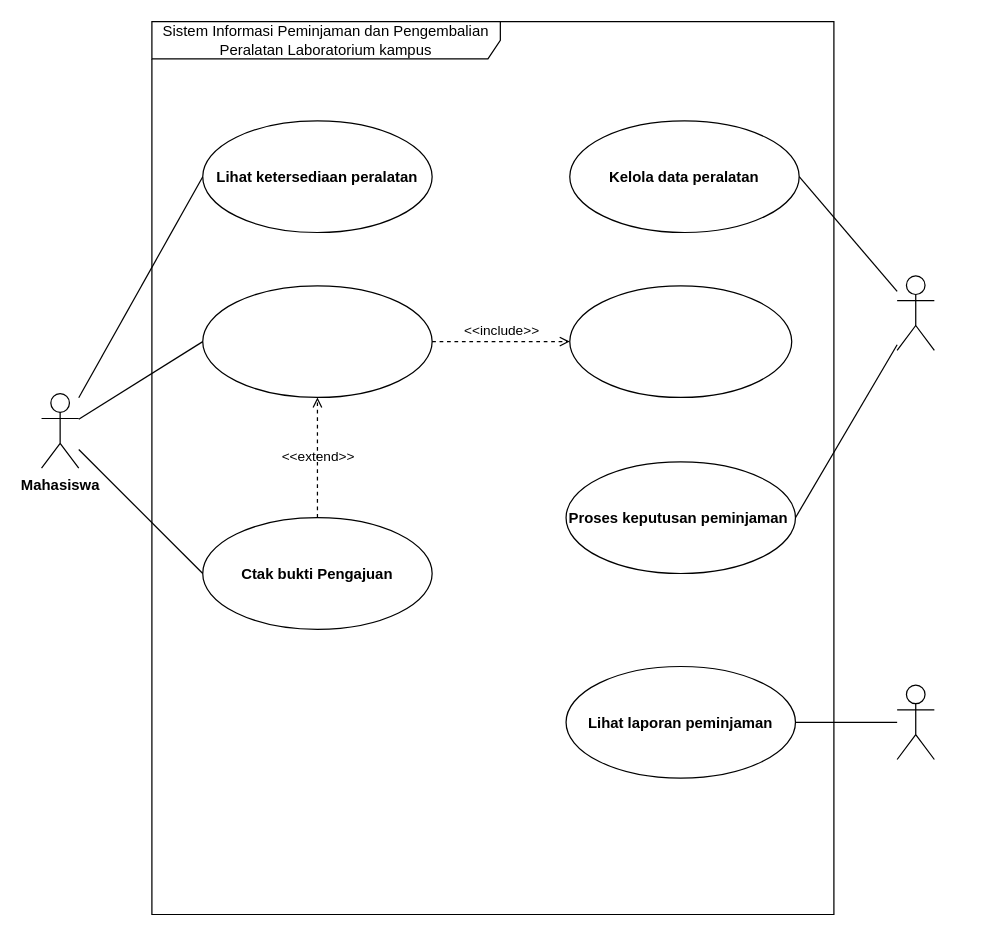
Some shapes in this 991 by 936 pixel diagram are drawn without their labels. The shapes that lost their labels are listed below. From the top down, each one's centre as x and y in pixels, then its label:
[915,312]: Petugas Laboran
[317,341]: Ajukan peminjaman
[680,341]: Periksa ketersediaan
[915,722]: Kepala laboran
